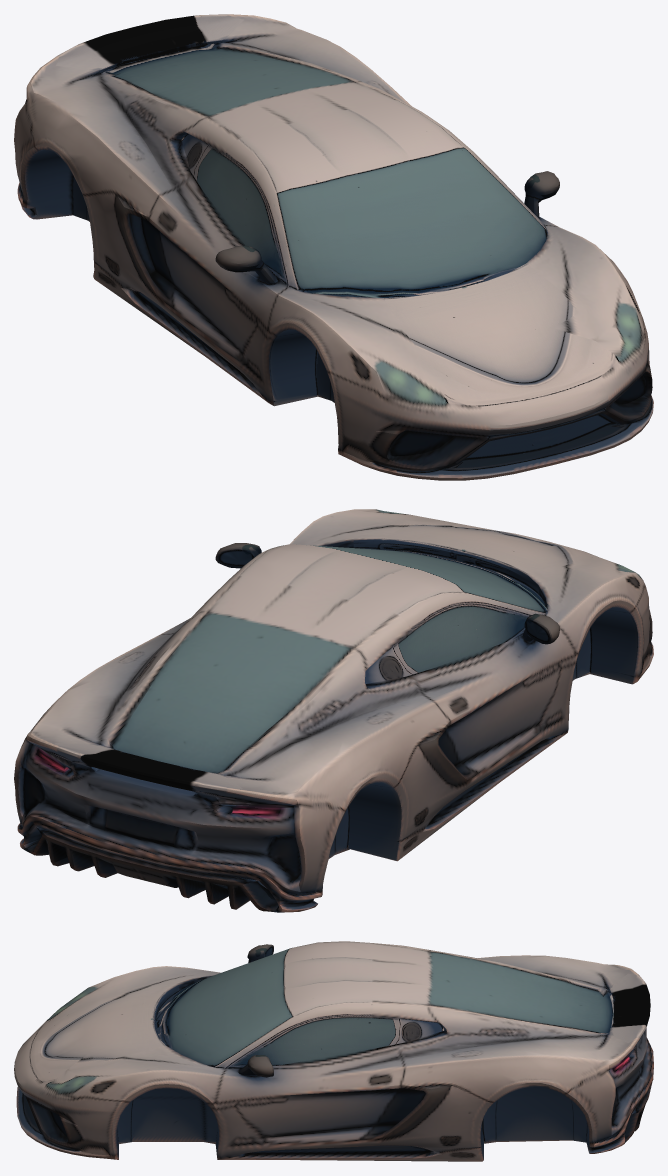
File: Car5.glb
3 renders of one model, top to bottom at view 1: azimuth 30°, elevation 25°; view 2: azimuth 150°, elevation 25°; view 3: azimuth 270°, elevation 25°, orthographic. The views are drawn at different scales.
Parts seen in each view (by area): view 1: part_0000.001; view 2: part_0000.001; view 3: part_0000.001.
Part boxes in pixels (x1,y1,x2,y2): part_0000.001: [14, 14, 653, 480]; part_0000.001: [14, 509, 653, 912]; part_0000.001: [14, 941, 653, 1161].
Bounding box in the file's own units: 2.15 × 1.1 × 4.65.
1 material, 1 textured.
